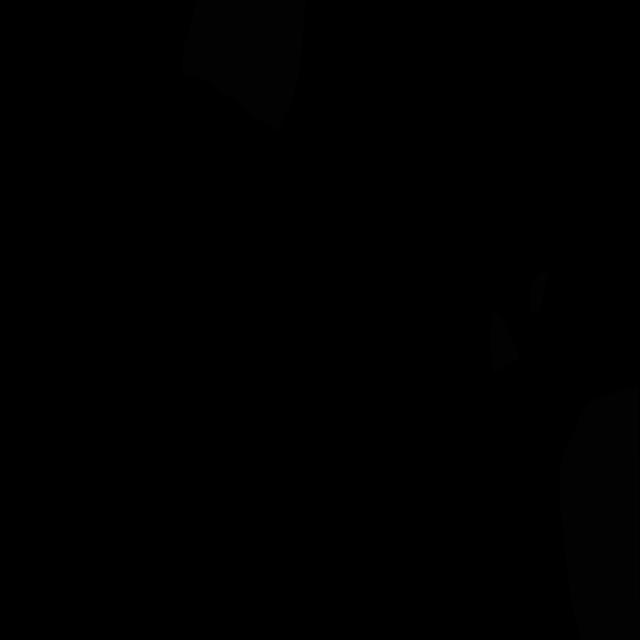cardboard: (560, 385, 640, 640), (182, 0, 306, 131), (490, 313, 520, 373), (530, 270, 548, 314)
